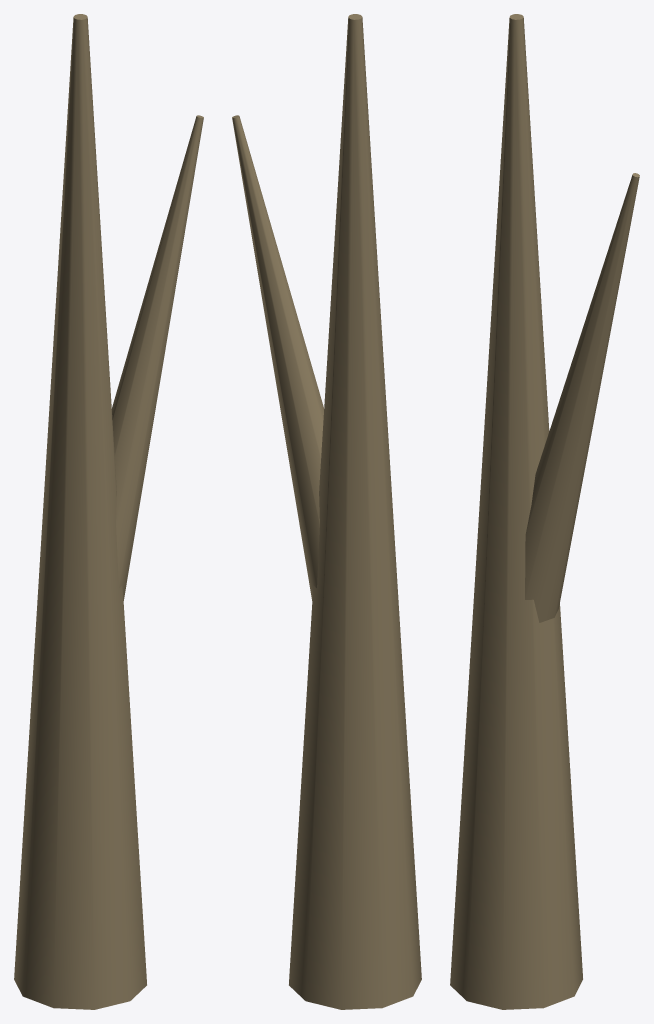
Rendered from Tronco_chico_01.fbx.
3 renders of one model, left to right at view 1: azimuth 30°, elevation 25°; view 2: azimuth 150°, elevation 25°; view 3: azimuth 330°, elevation 25°, orthographic.
Visible parts, largest first — view 1: tronco_chico_01; view 2: tronco_chico_01; view 3: tronco_chico_01.
Boxes of the visible parts, x1=… form: tronco_chico_01: x1=14, y1=14, x2=203, y2=1009; tronco_chico_01: x1=232, y1=14, x2=421, y2=1009; tronco_chico_01: x1=450, y1=14, x2=639, y2=1009.
Bounding box in the file's own units: 1.75 × 8.93 × 1.07.
